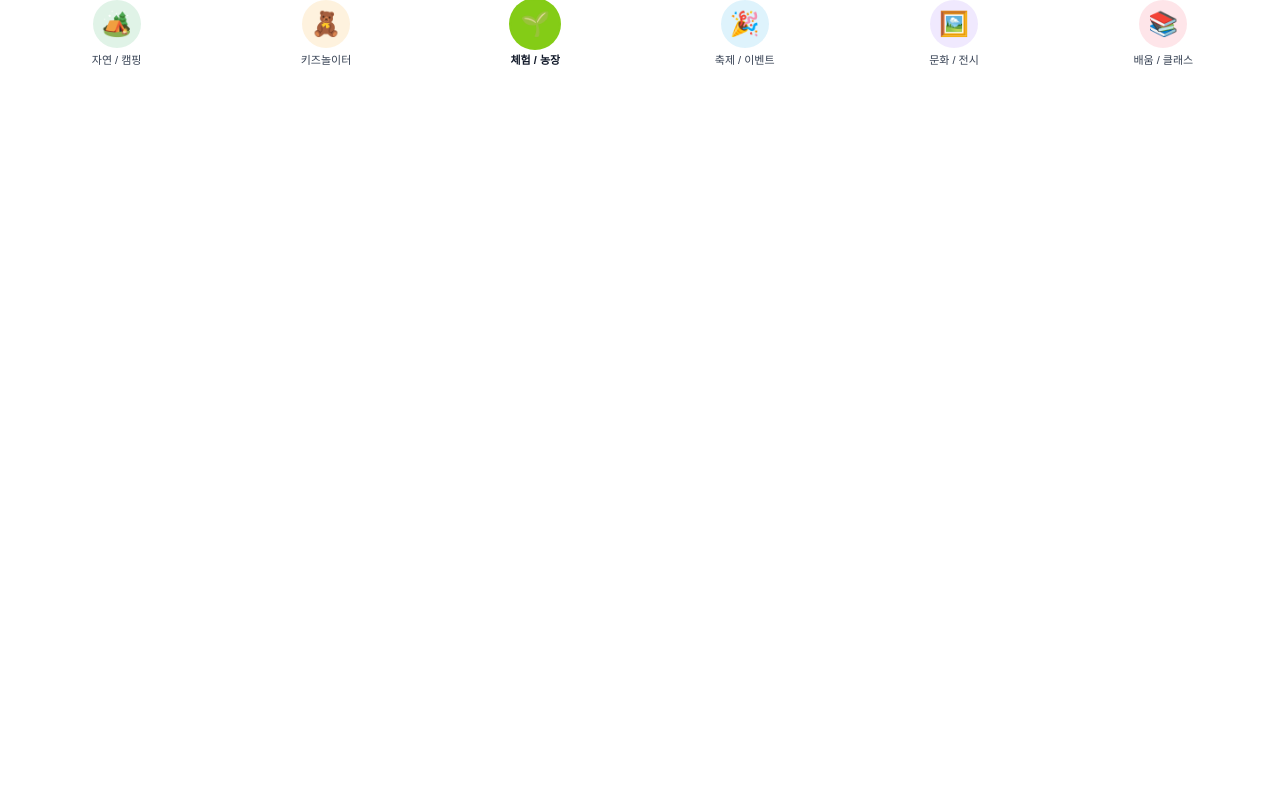
MajorCategoryGrid › categoryCounts에서 0건인 중분류는 칩 목록에서 제외된다
The width and height of the screenshot is (1280, 800).
What coordinates should you click on to do the following:
click the button "🌱 체험 / 농장"
I would click on:
 (535, 34)
Its box is 435,0 -> 636,68.
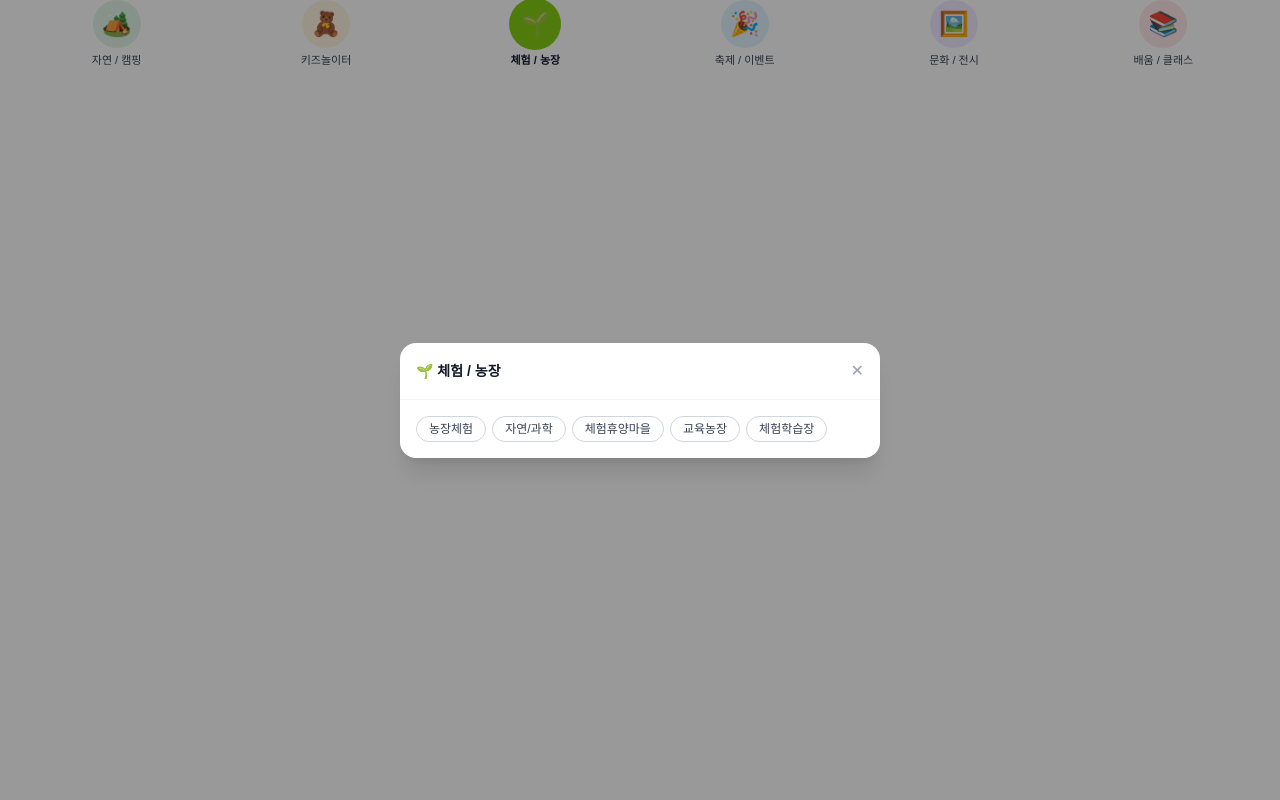
Now the button "농장체험" is shown, box 416,416 -> 486,442
